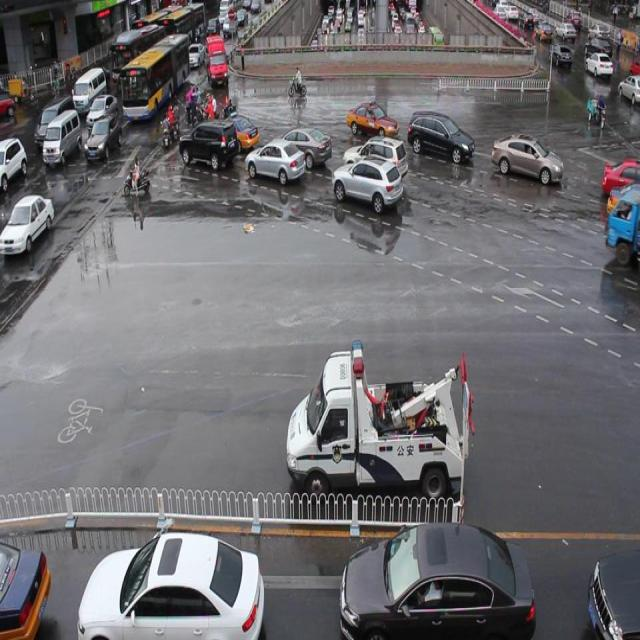bus: (285, 338, 464, 498), (606, 192, 640, 268)
car: (331, 156, 402, 217), (490, 129, 562, 186), (406, 107, 474, 164), (342, 132, 408, 184), (266, 123, 332, 169), (244, 137, 305, 183), (346, 99, 398, 140), (604, 179, 640, 230), (213, 114, 259, 152), (600, 158, 640, 199)
truck: (179, 118, 237, 168)
